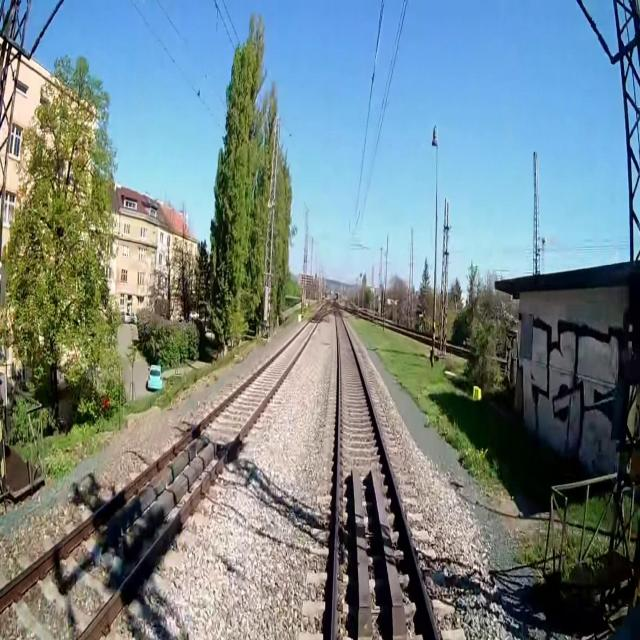rail-track: (0, 315, 319, 639), (336, 312, 434, 639)
